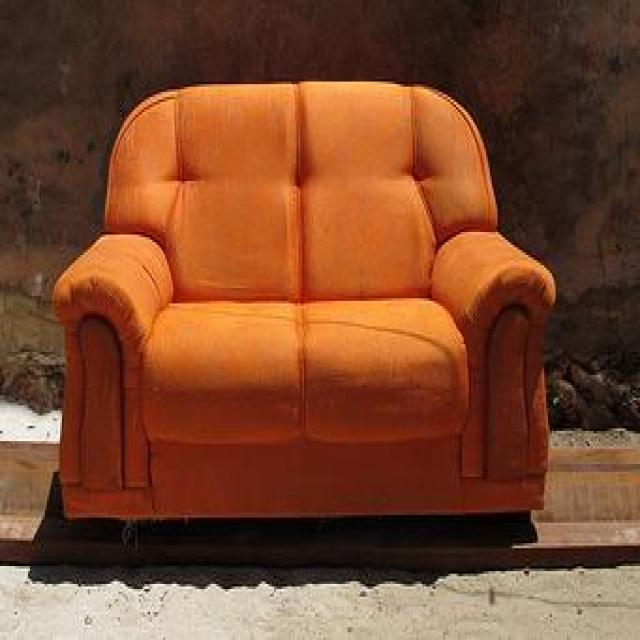sofa: (53, 80, 560, 544)
